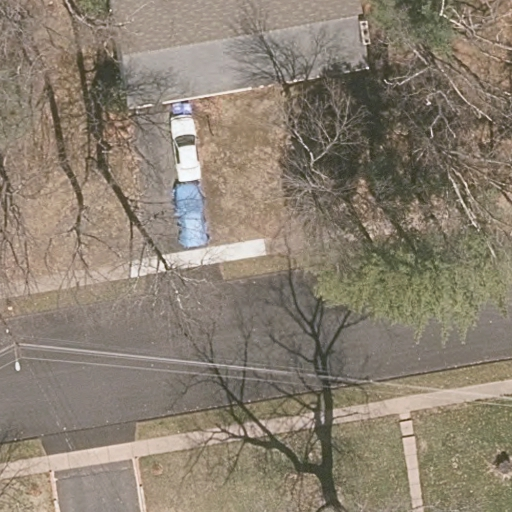DT: (10, 334, 24, 372)
